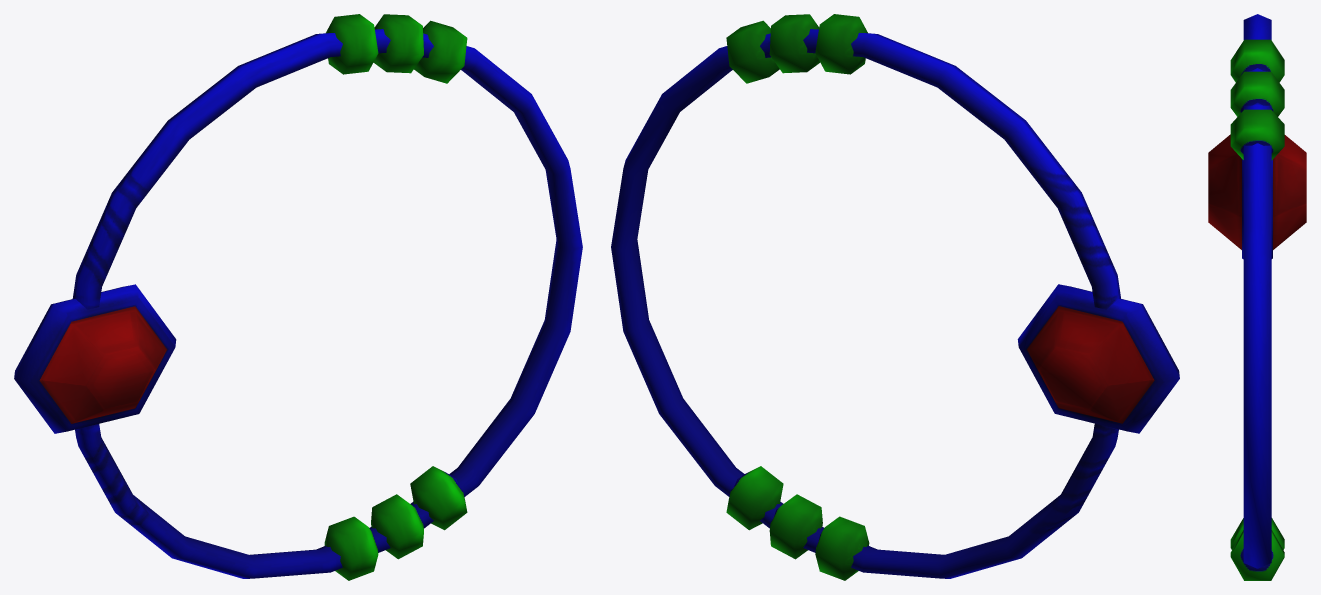
The picture shows the model from 3 angles, left to right: view 1: azimuth 30°, elevation 25°; view 2: azimuth 150°, elevation 25°; view 3: azimuth 270°, elevation 25°; orthographic projection. The views are drawn at different scales.
Visible parts, largest first — view 1: L1235; view 2: L1235; view 3: L1235.
Part boxes in pixels (bbox=[...]): L1235: bbox=[14, 14, 582, 580]; L1235: bbox=[611, 14, 1179, 580]; L1235: bbox=[1208, 14, 1306, 580].
Bounding box in the file's own units: 0.1375 × 0.1283 × 0.0219.
